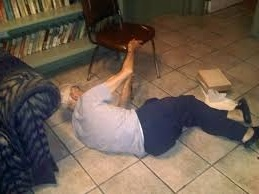fall: (59, 39, 258, 167)
